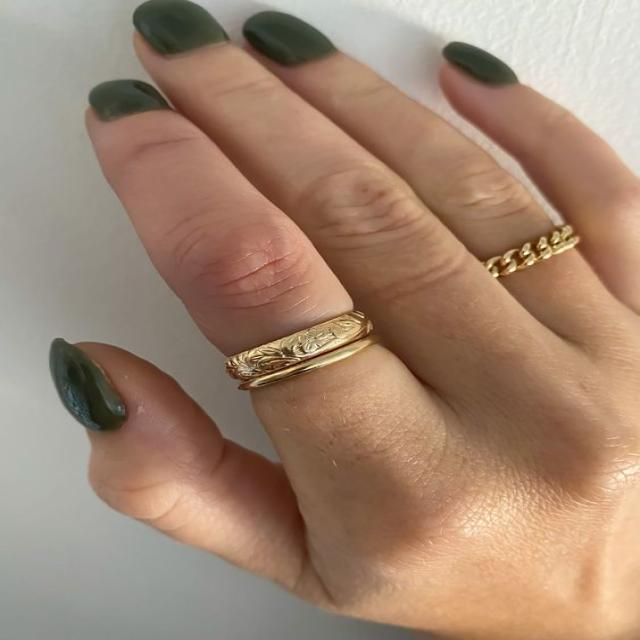Fingernail: (50, 340, 126, 431), (133, 0, 227, 56), (244, 12, 334, 65), (90, 80, 168, 120), (443, 43, 517, 85)
